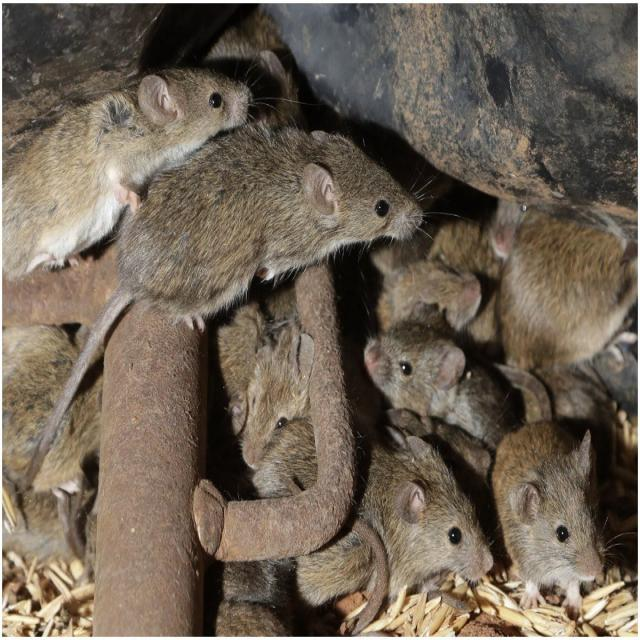rat: (50, 122, 425, 429), (3, 67, 255, 278), (495, 210, 636, 370), (491, 421, 604, 614), (359, 439, 493, 598), (217, 288, 316, 497), (364, 320, 512, 447), (377, 260, 482, 331)
